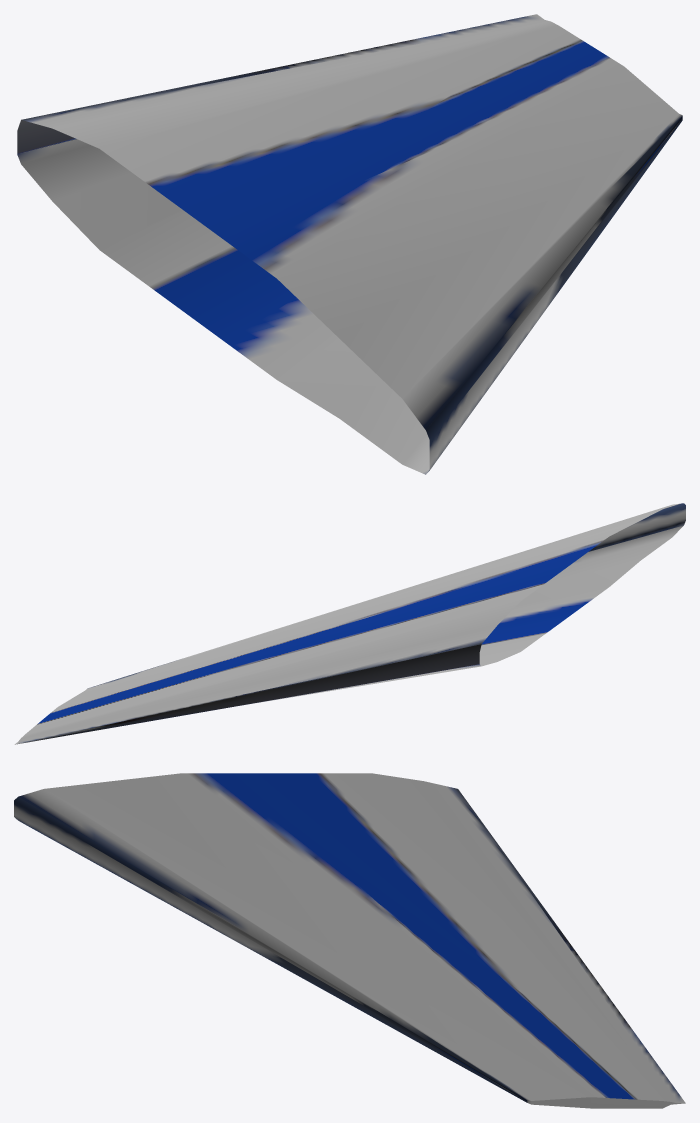
Rendered from player_starfighter_l_wing_only.glb.
3 renders of one model, top to bottom at view 1: azimuth 30°, elevation 25°; view 2: azimuth 150°, elevation 25°; view 3: azimuth 270°, elevation 25°, orthographic. The views are drawn at different scales.
Parts seen in each view (by area): view 1: polymsh_detached6.002; view 2: polymsh_detached6.002; view 3: polymsh_detached6.002.
Part boxes in pixels (x1,y1,x2,y2): polymsh_detached6.002: (17,14,682,474); polymsh_detached6.002: (14,503,685,744); polymsh_detached6.002: (14,773,685,1108).
Bounding box in the file's own units: 0.4182 × 0.1446 × 0.6173.
Materials: 1 (1 with a texture image).
